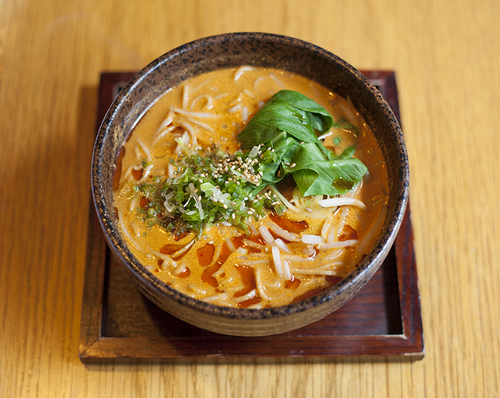Soba: (143, 69, 376, 308)
